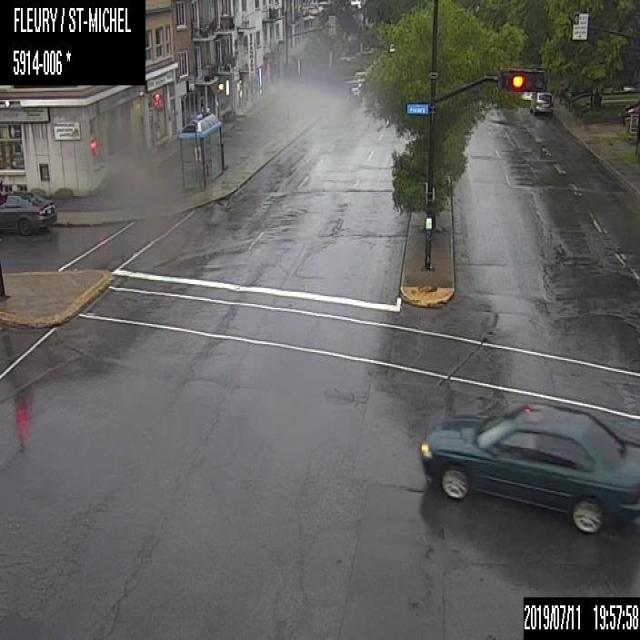vehicle: (420, 400, 639, 537), (0, 185, 59, 238), (528, 91, 553, 117)
